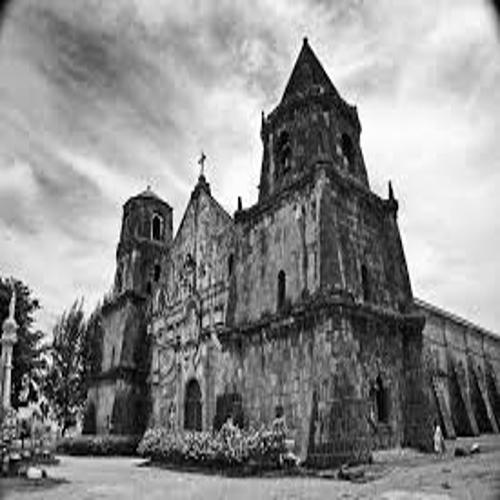Miagao Church: (74, 32, 412, 481)
